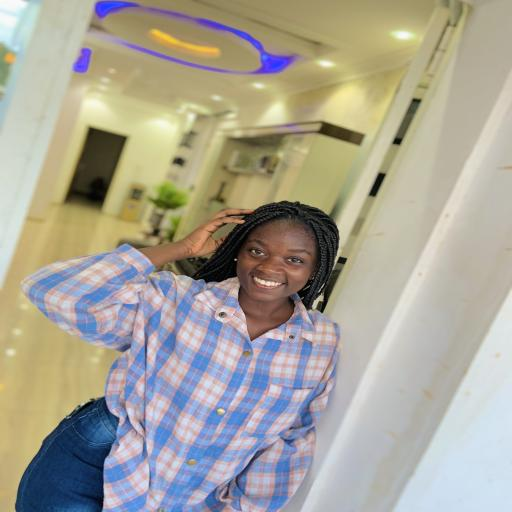LAURENE: (222, 200, 345, 310)
